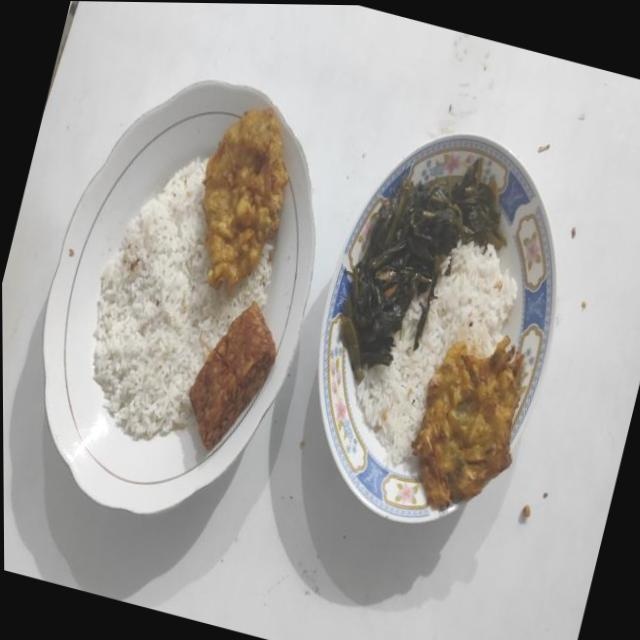nasi_putih: (92, 159, 271, 440), (357, 241, 517, 464)
tempe_goreng: (189, 301, 276, 449)
tumis_kangkung: (340, 158, 507, 382)
